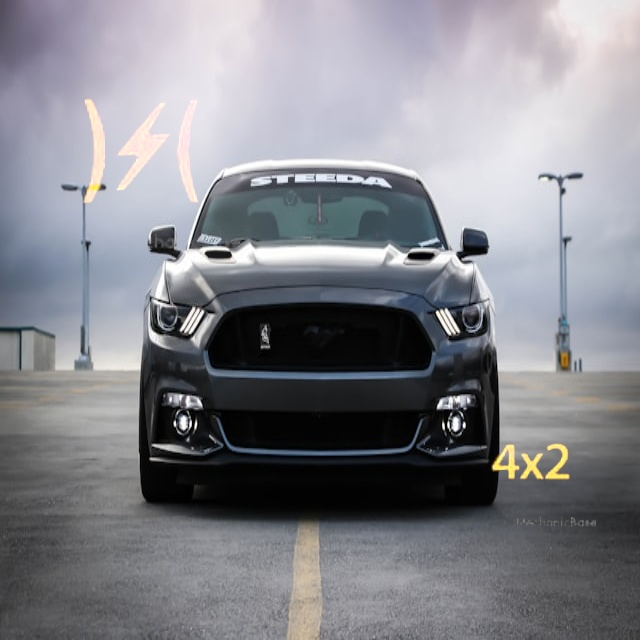symbol: (35, 45, 249, 259), (460, 392, 602, 534)
